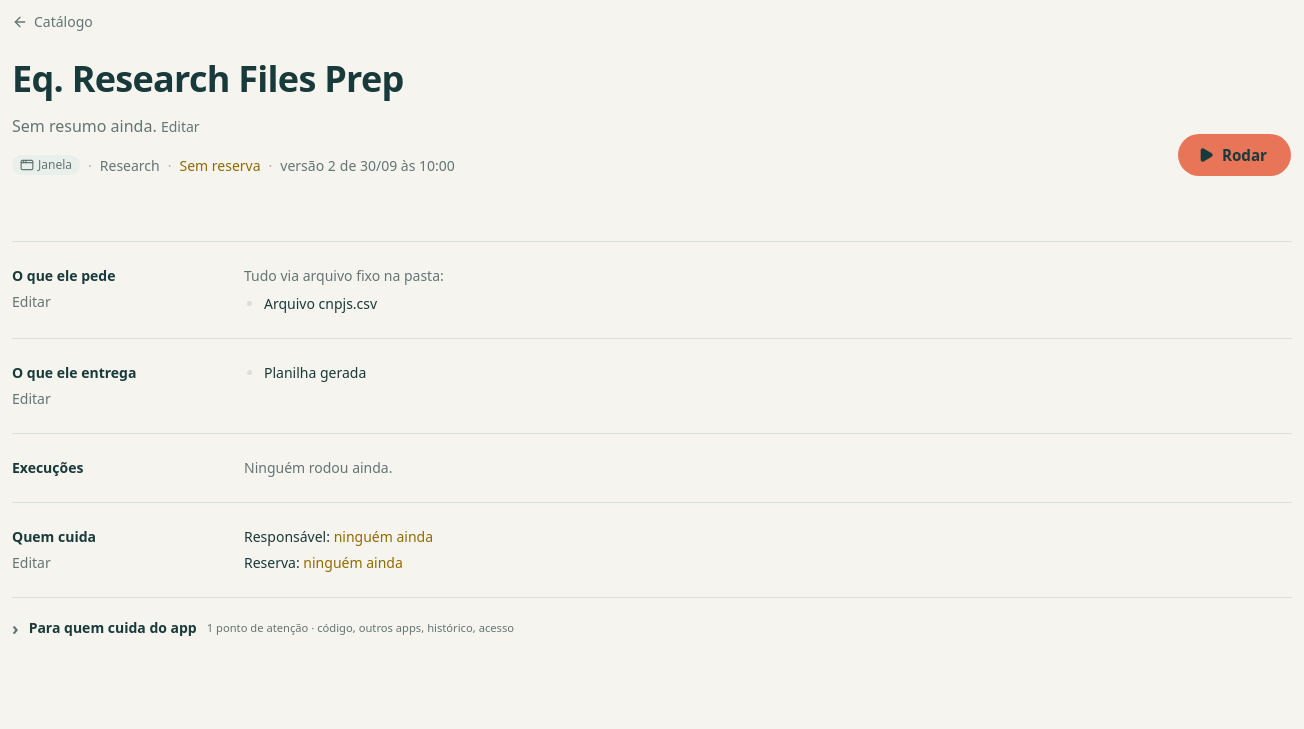
Test: saves one part and shows the new ficha
Step 1. Click the button with aria-label "Editar O que ele entrega" → [31, 399], box [12, 389, 51, 409]
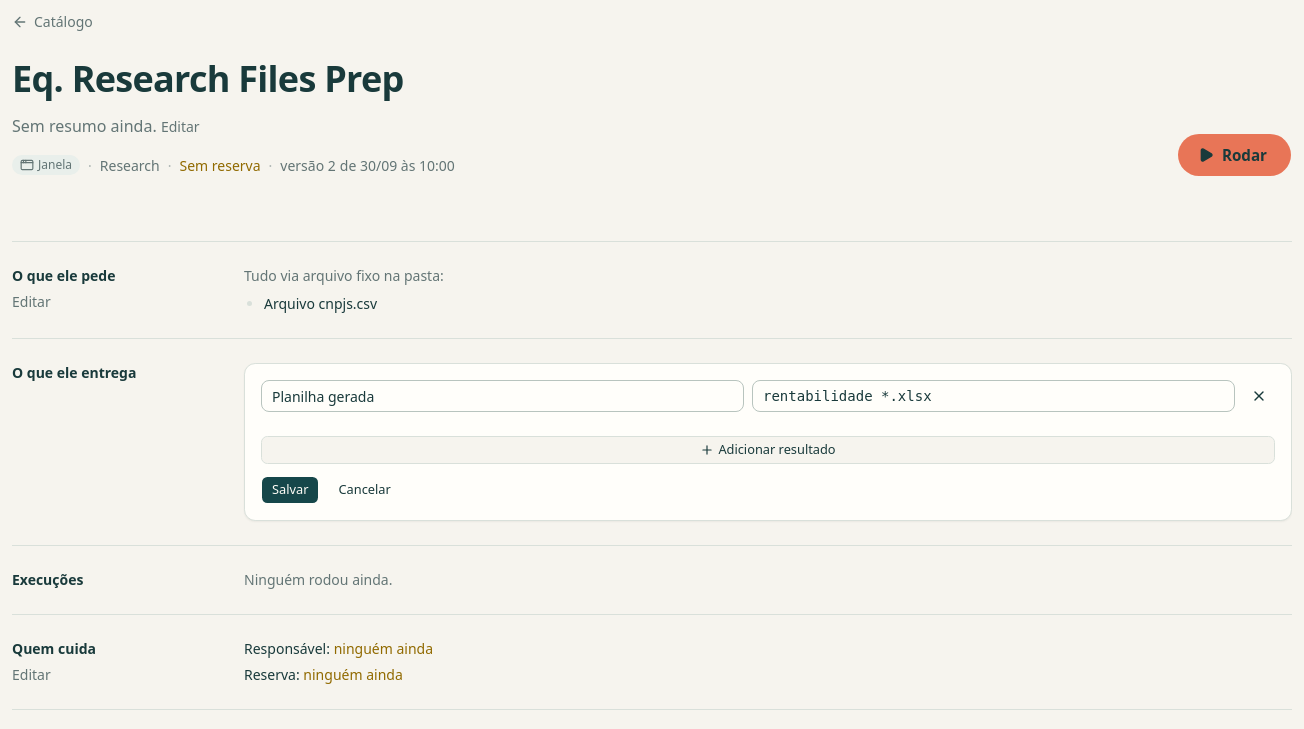
Step 2. Replace the text in the field named "Descrição do resultado" with "Relatório" → [502, 396], box [261, 380, 744, 412]
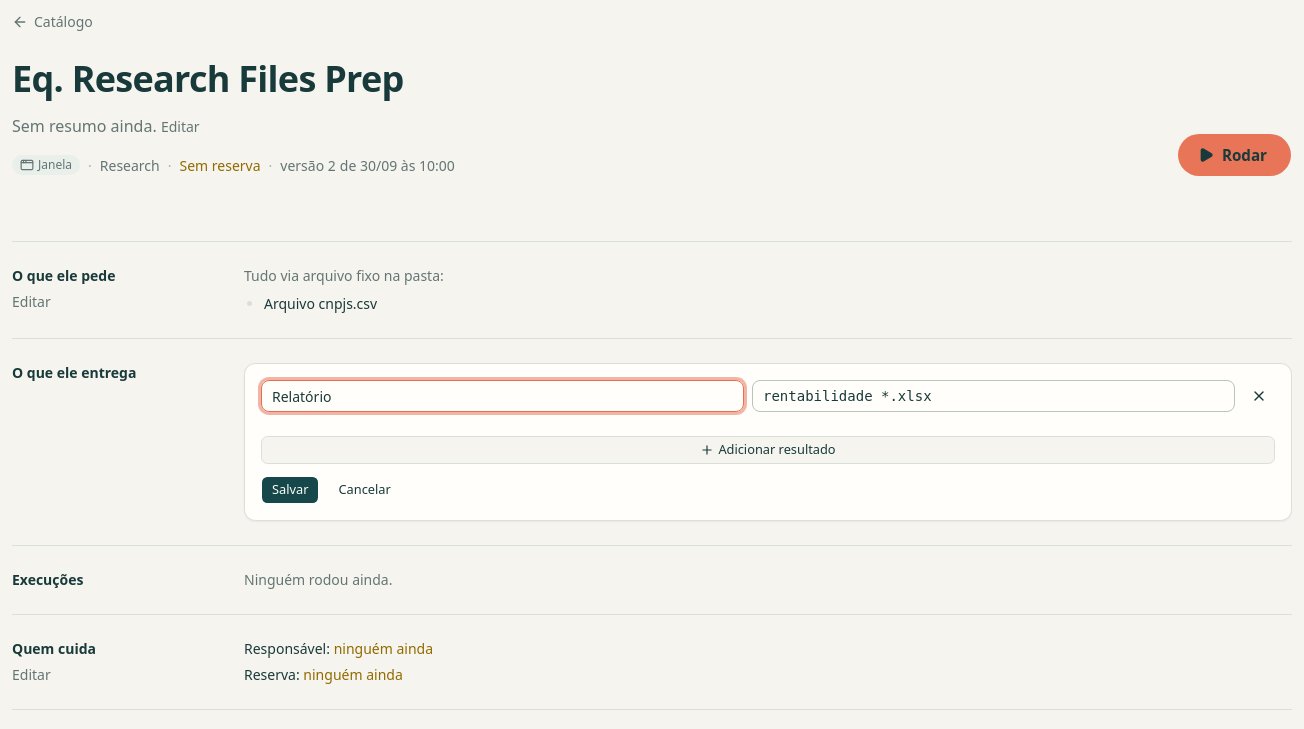
Step 3. Click the button "Salvar" → [290, 490], box [261, 476, 320, 504]
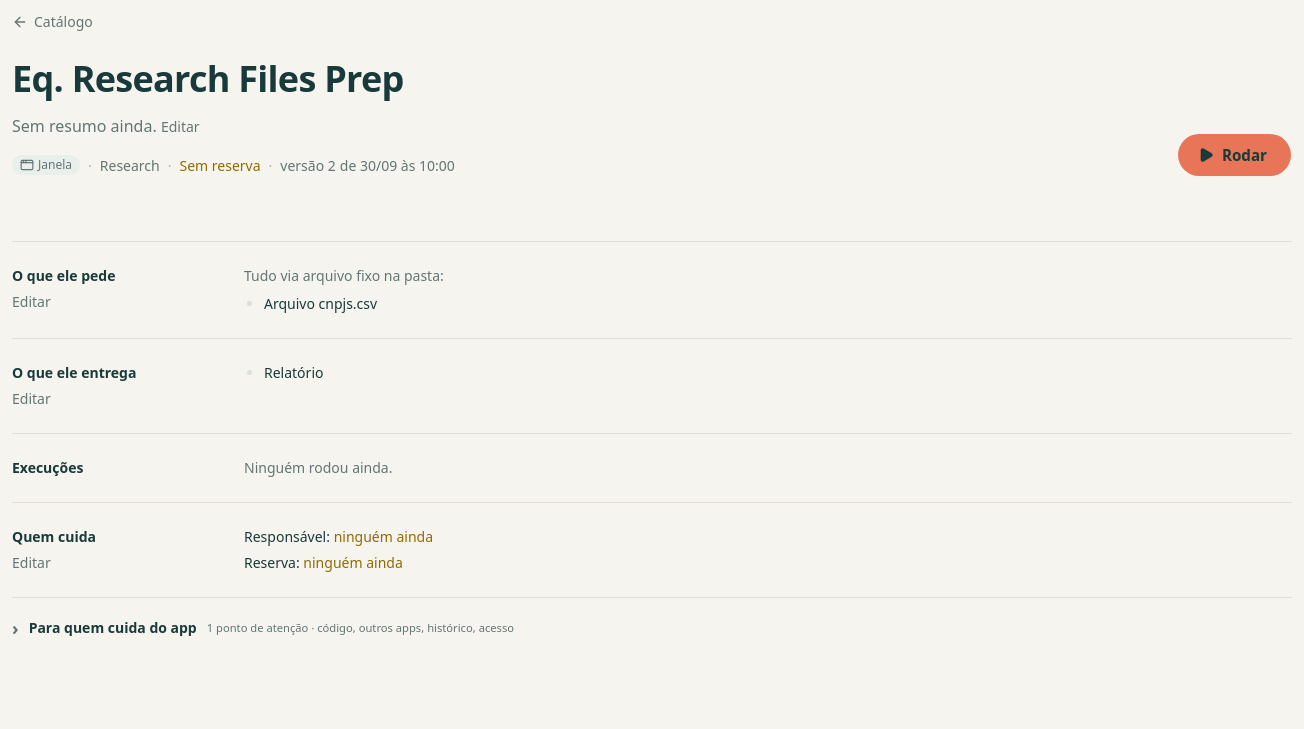
expect the list item "Relatório" is shown: met, box [264, 363, 324, 382]
expect the button "Salvar" is gone: met
